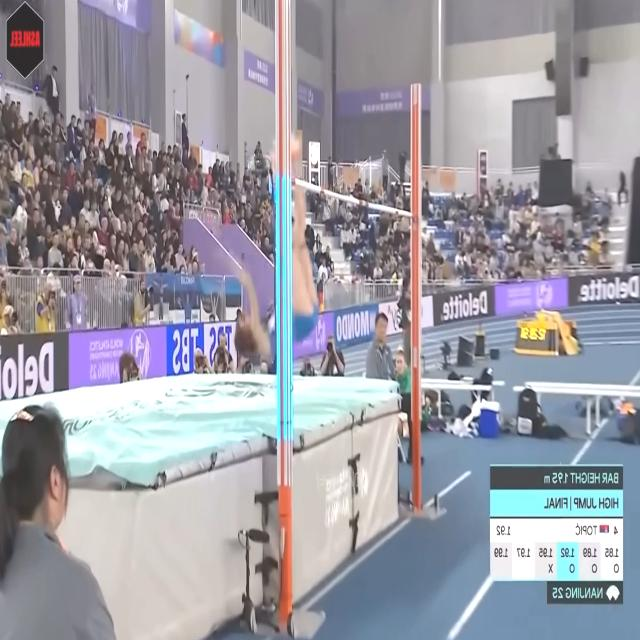land: (232, 131, 321, 365)
